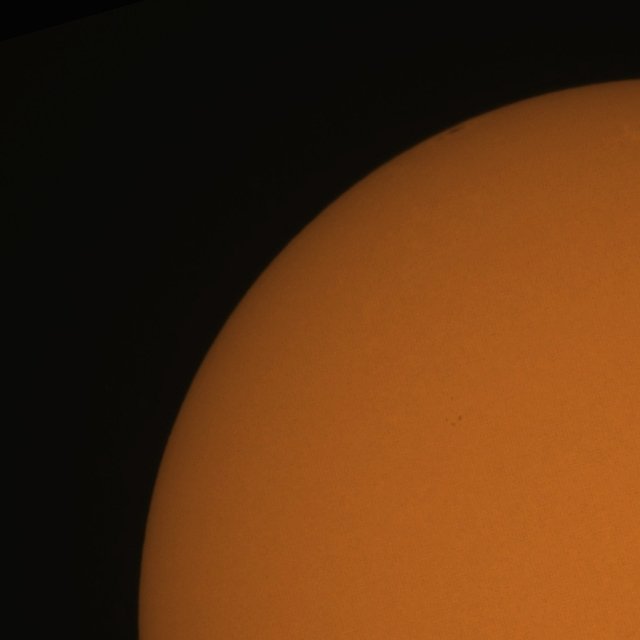sunspot: (447, 414, 462, 428)
